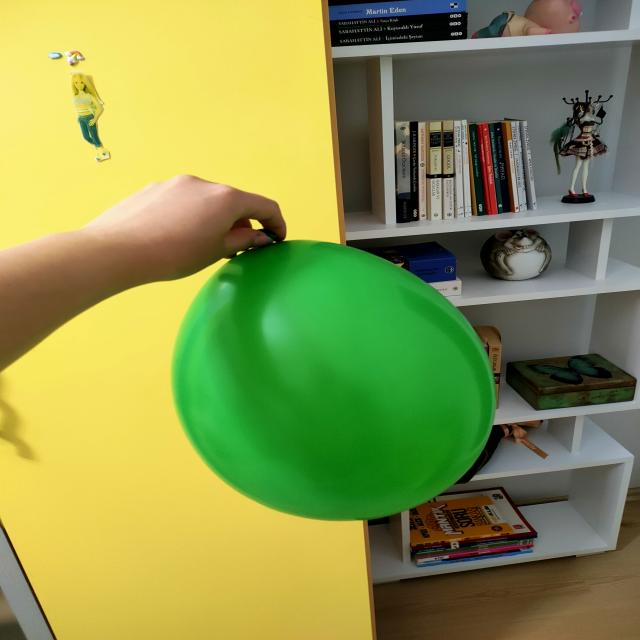green: (175, 241, 496, 523)
